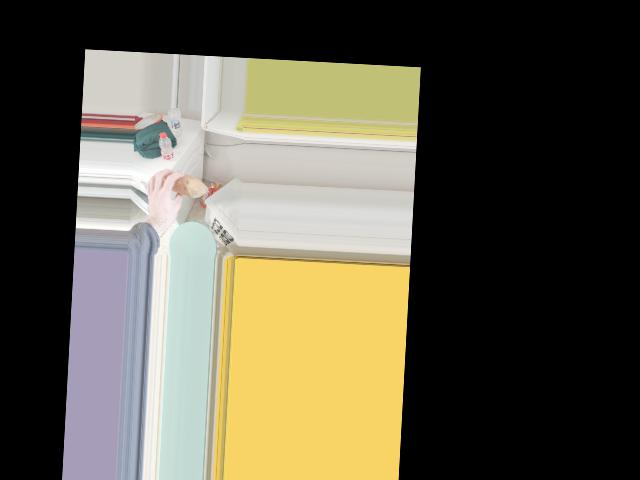sweet_potato: (157, 173, 207, 197)
